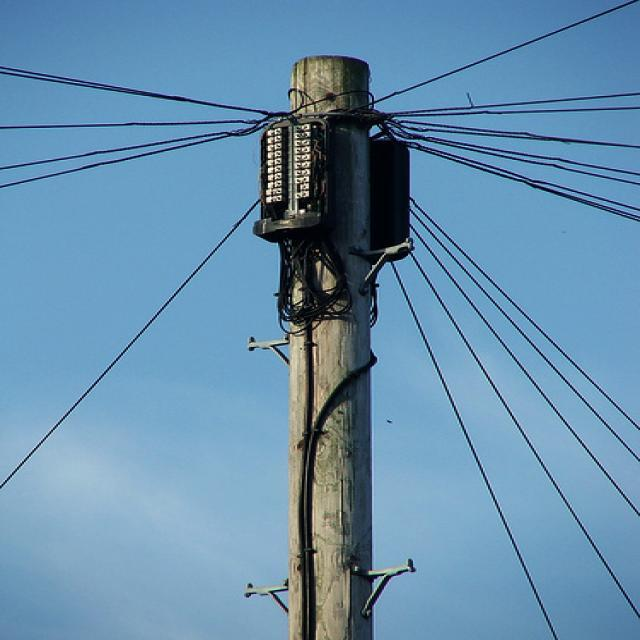pole: (254, 55, 381, 640)
wire: (403, 246, 640, 621), (0, 198, 266, 492), (409, 229, 640, 524), (386, 259, 565, 637), (411, 202, 640, 437), (367, 0, 640, 109), (407, 143, 640, 223), (0, 63, 291, 115), (7, 134, 264, 190), (403, 135, 638, 188), (1, 129, 252, 174), (386, 123, 640, 153), (398, 88, 639, 117), (1, 117, 277, 134), (383, 104, 640, 119)
